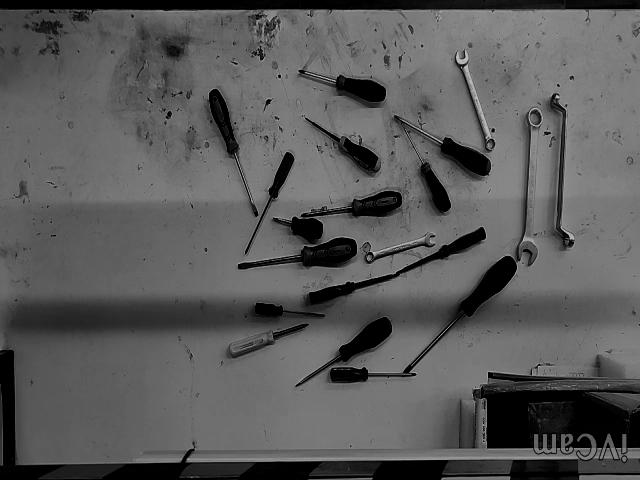Screwdriver: (404, 257, 516, 372), (296, 317, 391, 386), (209, 90, 259, 217), (394, 115, 491, 177), (245, 152, 295, 255), (395, 227, 485, 276), (305, 117, 381, 173), (402, 127, 451, 212), (239, 238, 358, 270), (298, 70, 387, 102), (301, 191, 402, 218), (230, 323, 310, 357), (309, 276, 396, 305), (330, 367, 417, 383), (273, 217, 322, 240), (255, 304, 326, 317)
Wrench: (455, 49, 495, 152), (516, 108, 542, 265), (550, 93, 575, 248), (365, 232, 436, 263)
